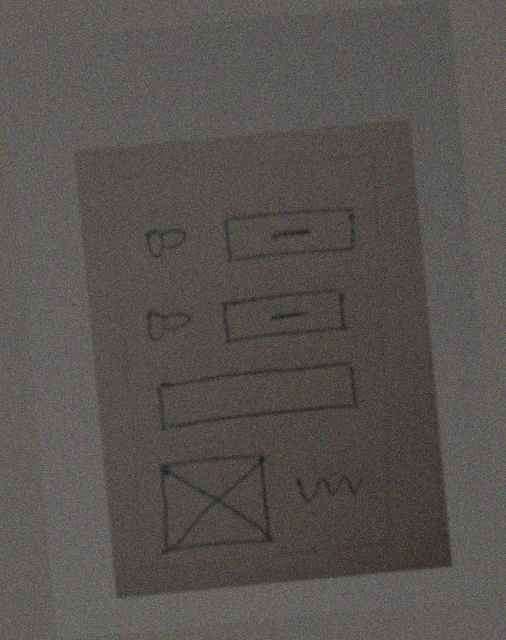button: (218, 198, 361, 274), (215, 275, 358, 351)
image: (149, 445, 281, 561)
switch: (137, 214, 192, 266), (141, 297, 196, 349)
text: (289, 464, 369, 511)
text_input: (148, 357, 364, 433)
